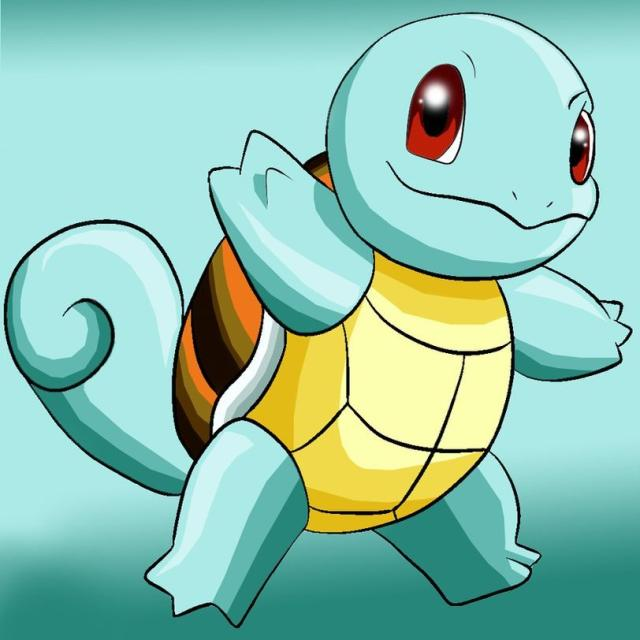Squirtle: (180, 15, 604, 518)
